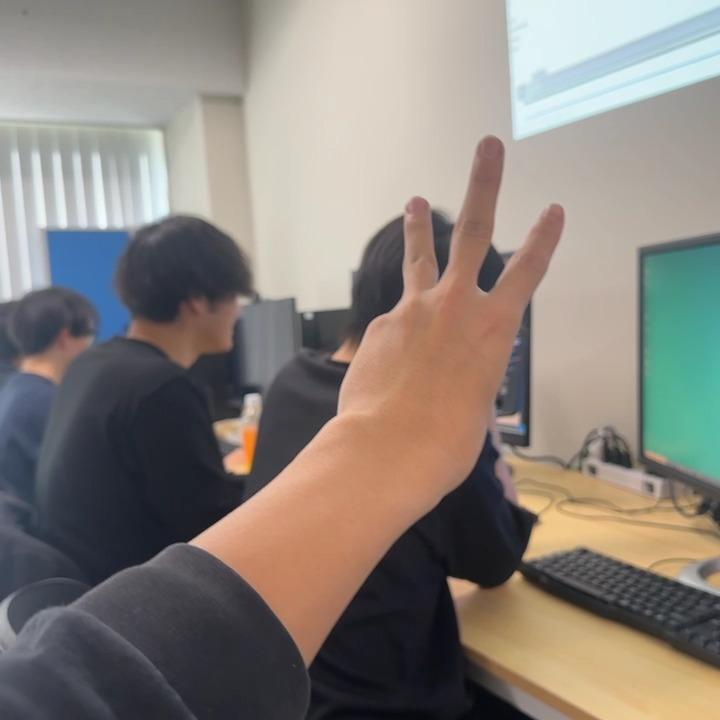without_gloves: (365, 128, 568, 480)
